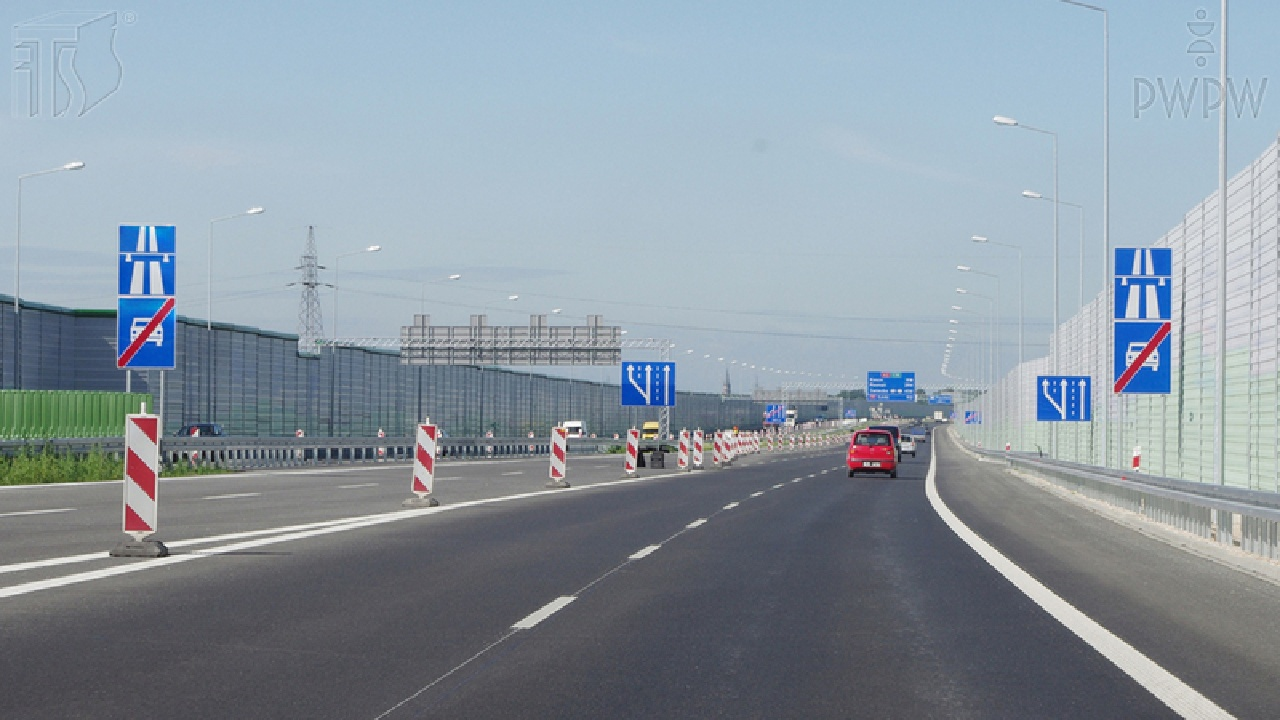D8: (1113, 321, 1172, 395), (117, 297, 175, 368)
D9: (1114, 247, 1175, 320), (118, 224, 176, 296)
